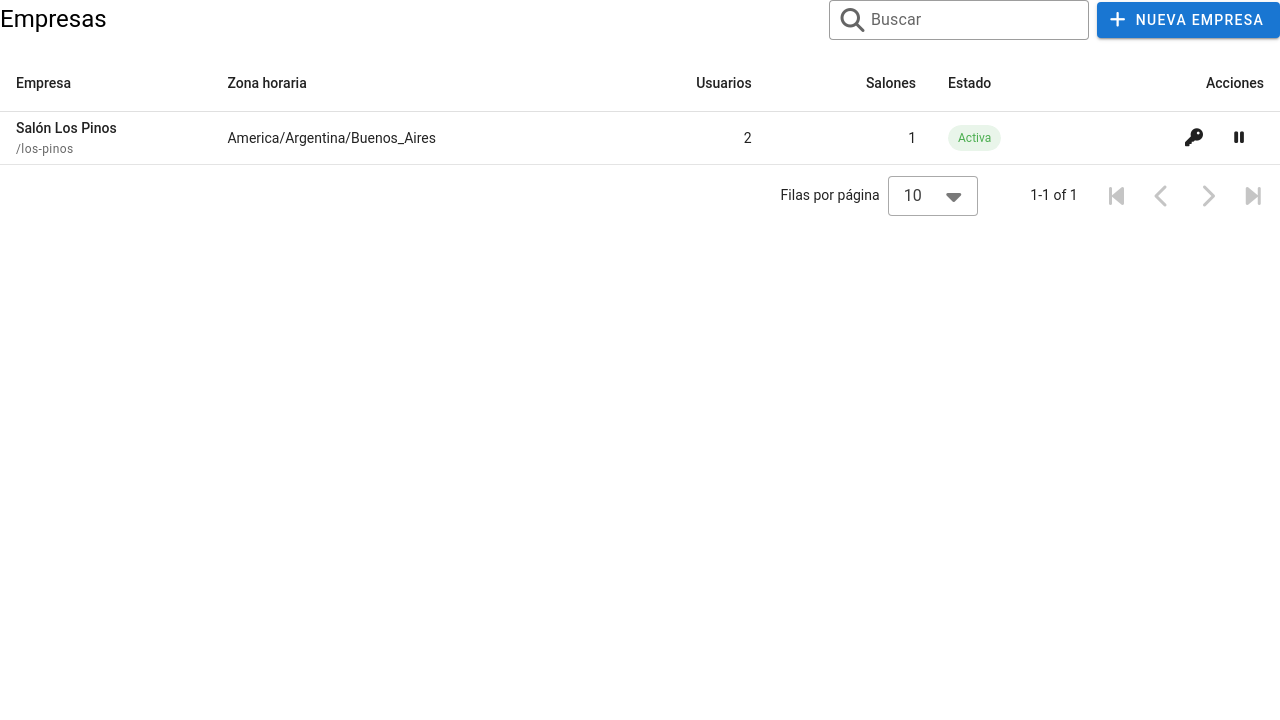
EmpresasPlataforma › resetear la clave del dueño › con varios dueños: pide elegir a cuál y recién entonces genera la clave
Click the button named "Resetear la clave del dueño de Salón Los Pinos": (1194, 138) x1=1174 y1=118 x2=1214 y2=158
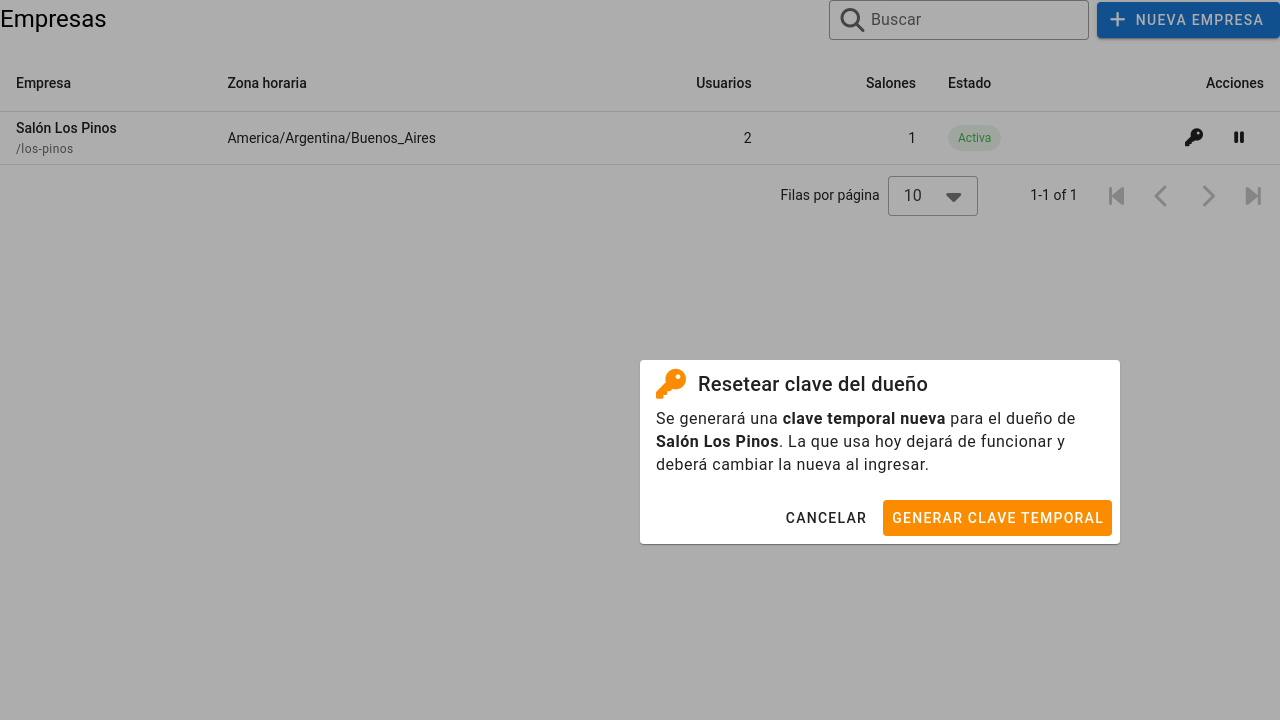
Now the button "Generar clave temporal" is shown
Click the button "Generar clave temporal": (998, 518) x1=883 y1=500 x2=1112 y2=536
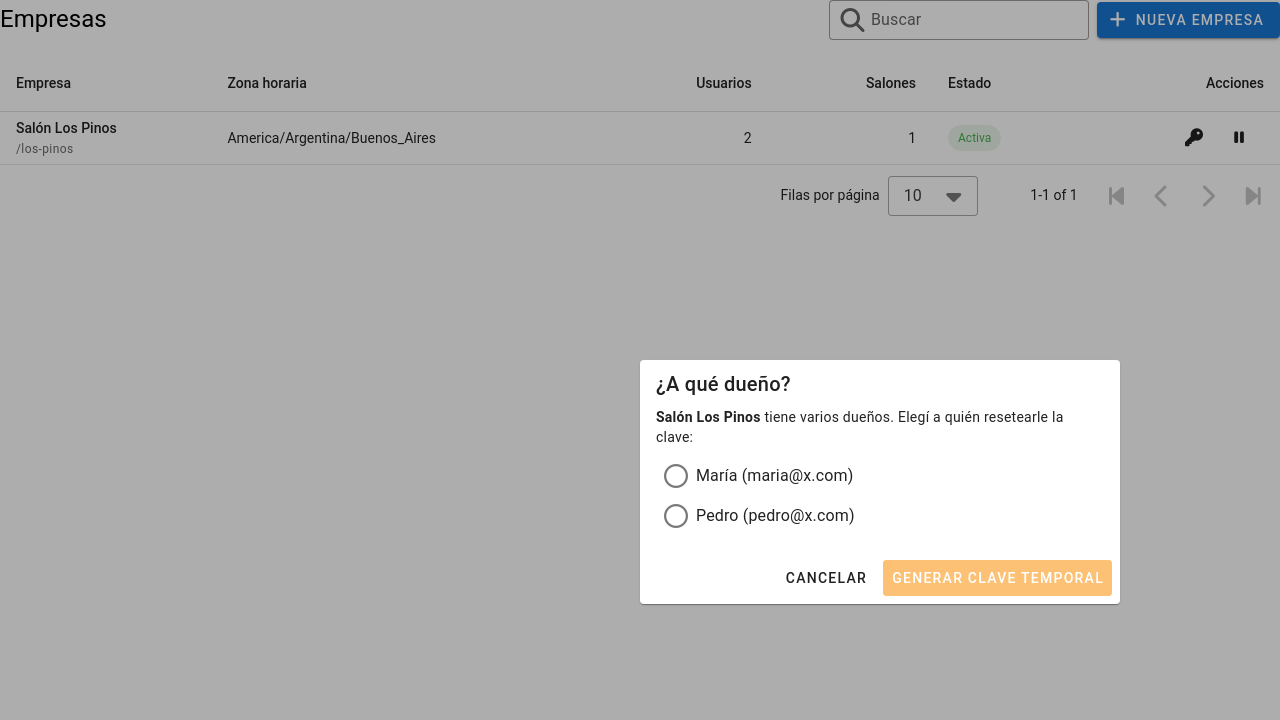
Now the text "tiene varios dueños" is shown, box x1=656 y1=409 x2=1064 y2=445
Now the text "Pedro (pedro@x.com)" is shown
Now the button "Generar clave temporal" is disabled, box x1=883 y1=560 x2=1112 y2=596
Click the radio button labelled "Pedro (pedro@x.com)": (775, 515) x1=696 y1=506 x2=855 y2=525
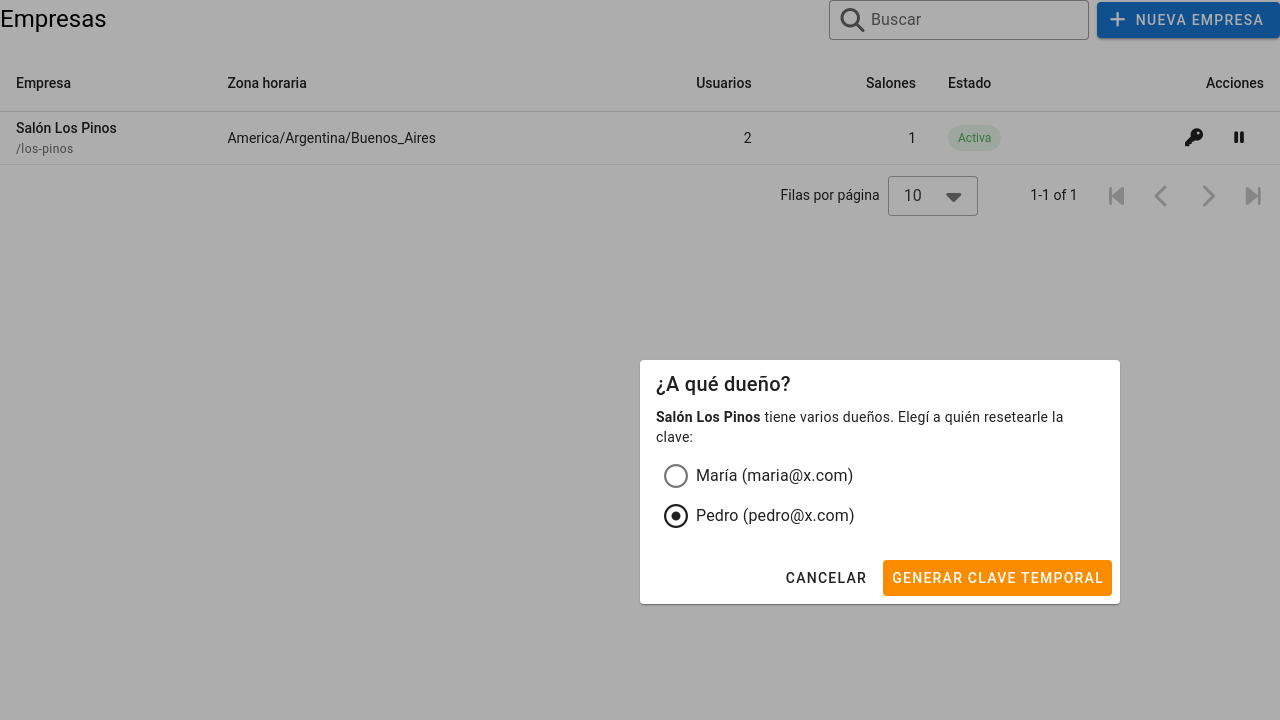
Now the button "Generar clave temporal" is shown
Click the button "Generar clave temporal": (998, 578) x1=883 y1=560 x2=1112 y2=596
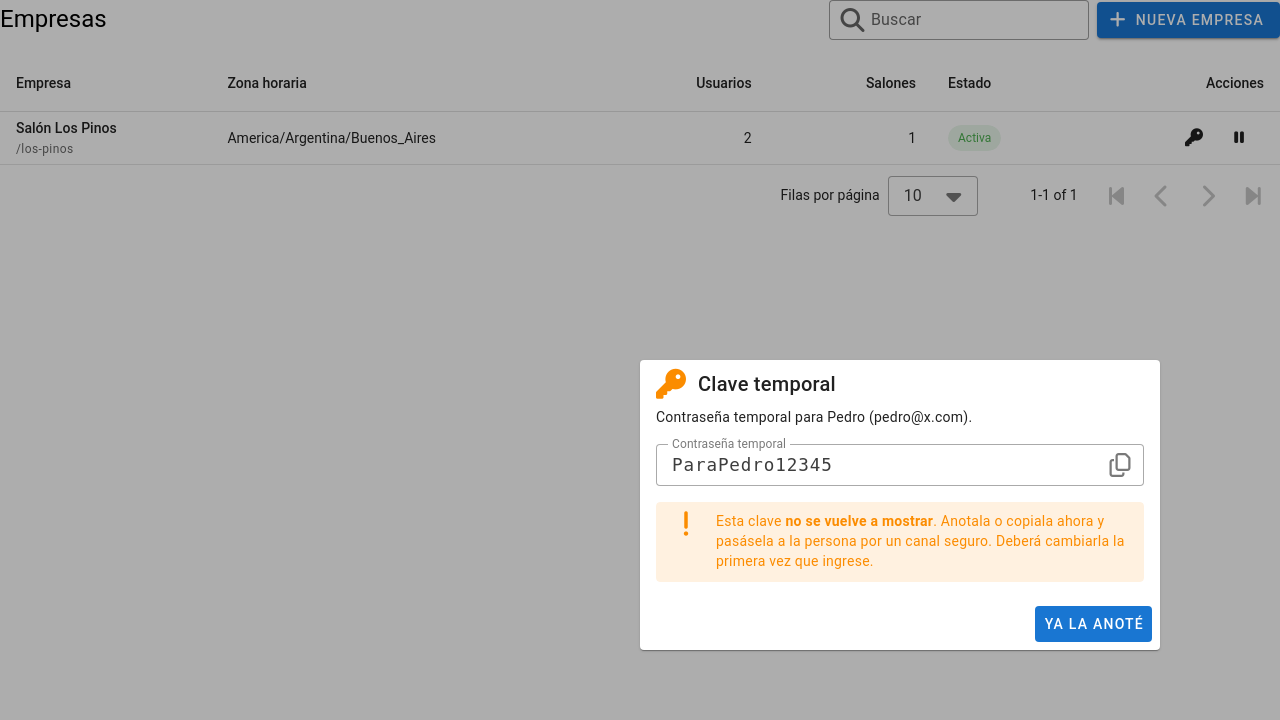
Now the field labelled "Contraseña temporal" holds "ParaPedro12345", box x1=656 y1=444 x2=1108 y2=486
